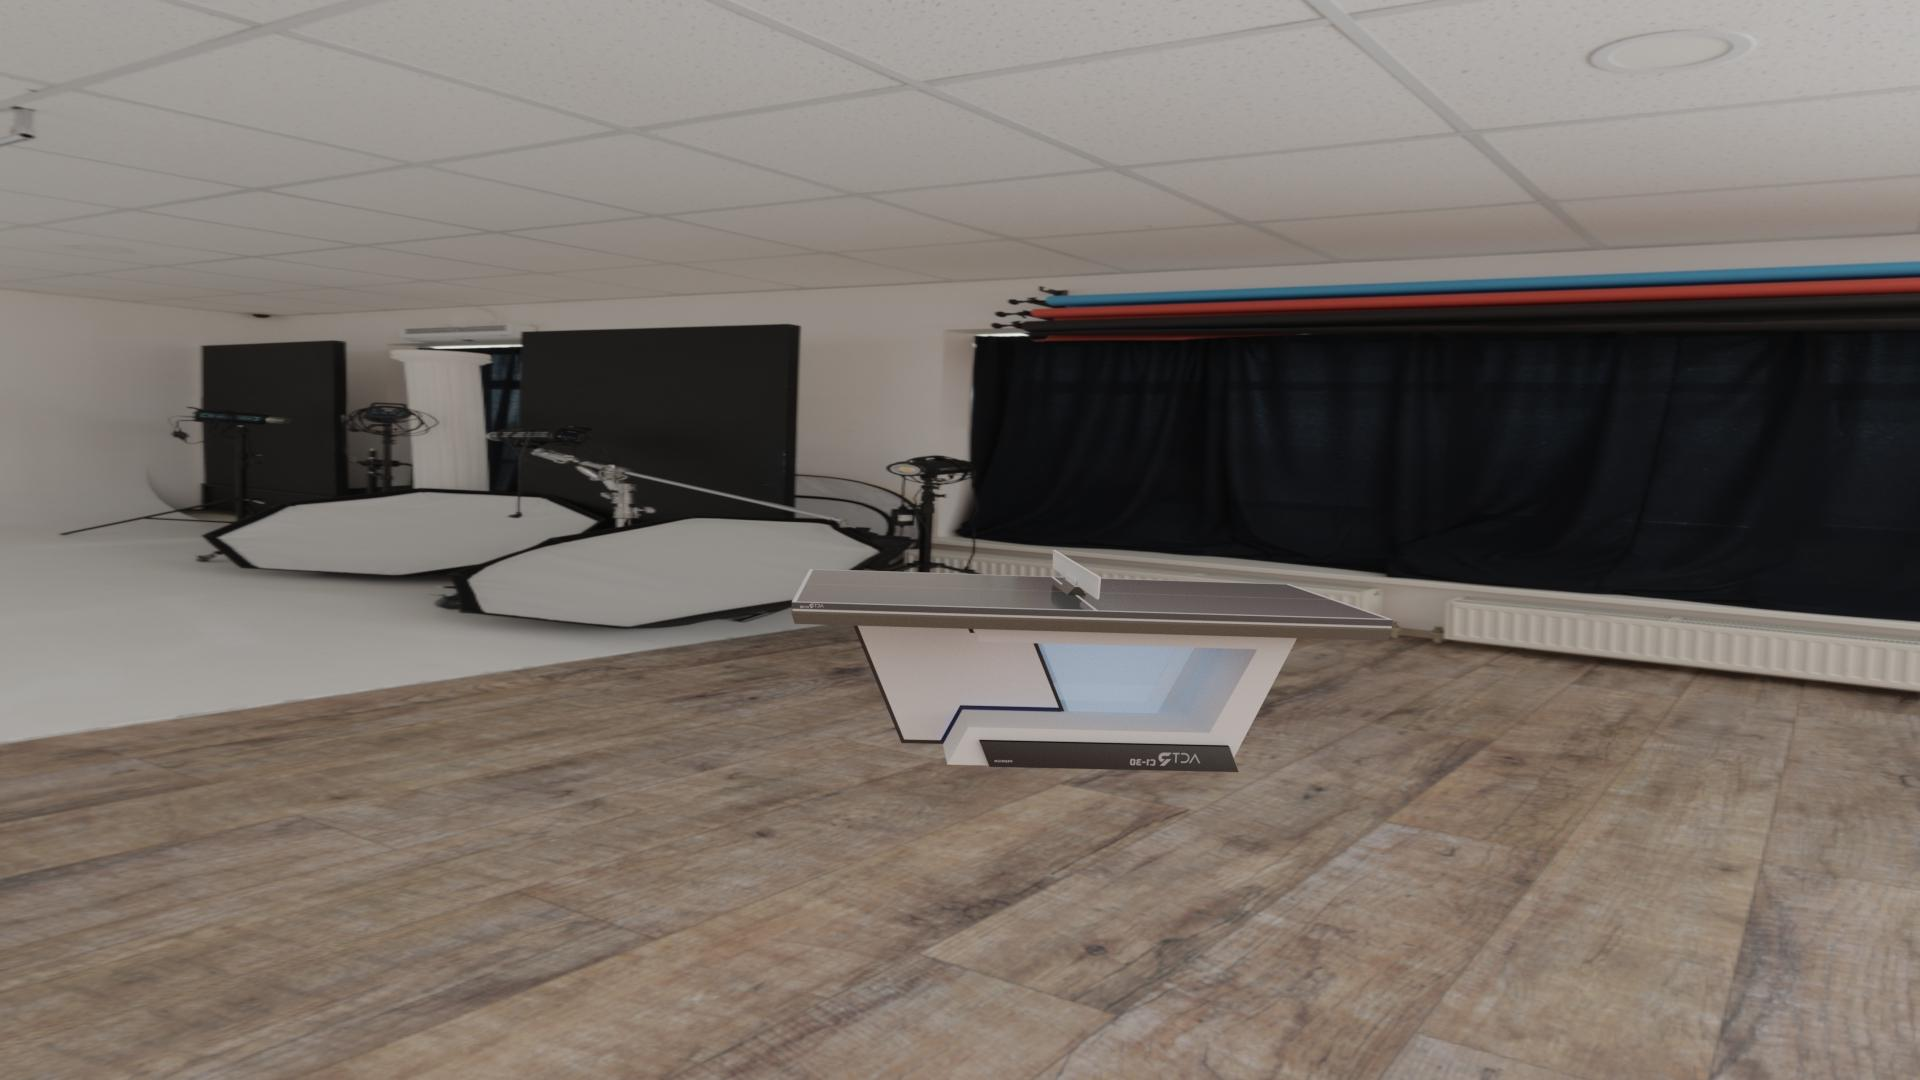table: (796, 570, 1387, 618)
